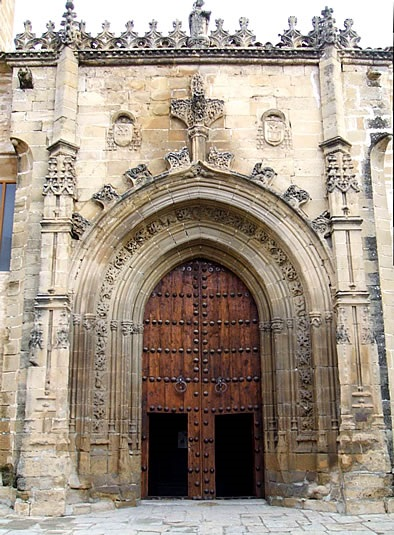arco-apuntado: (127, 232, 286, 334)
